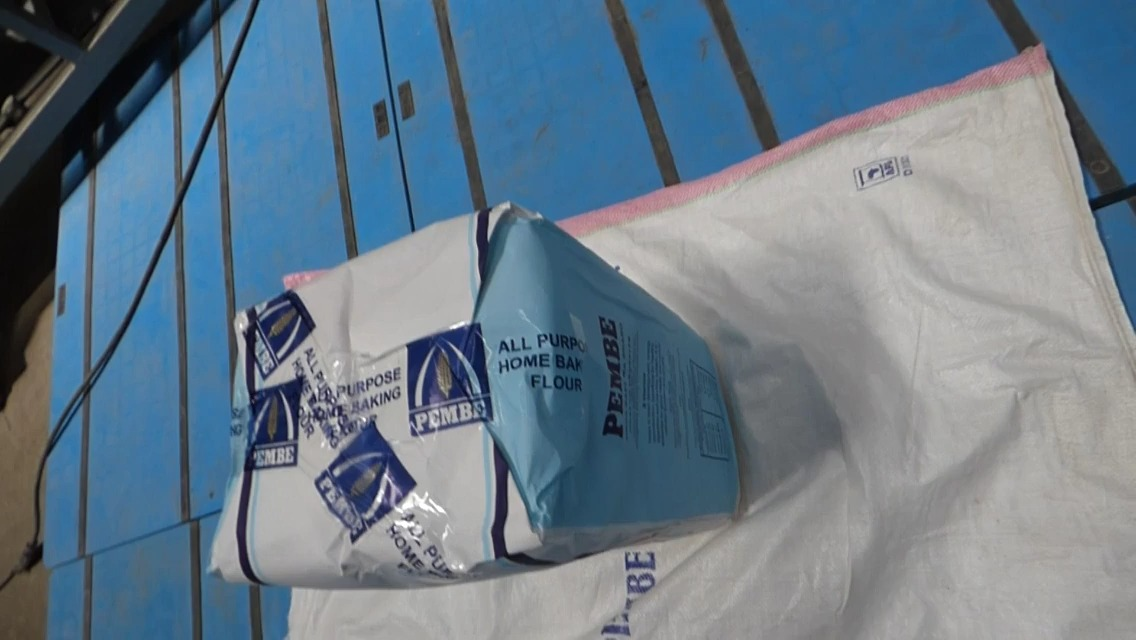wheat_flour_blue_label: (228, 209, 740, 582)
